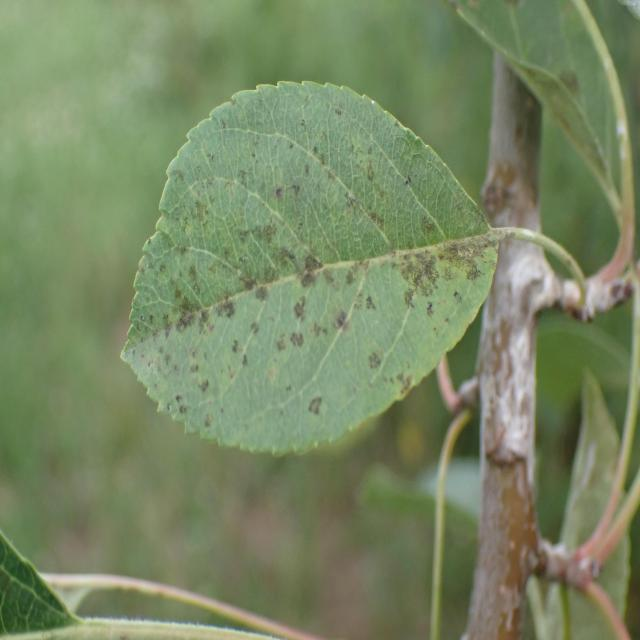scab: (101, 74, 500, 454)
